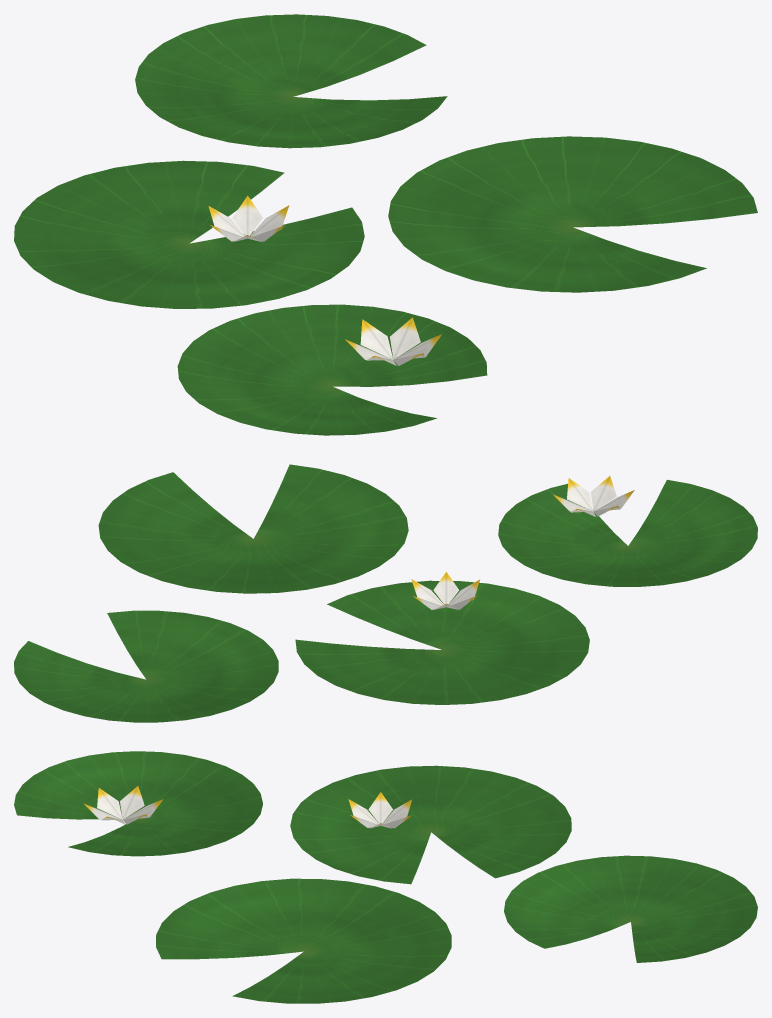
The model's file is water_lily_v1.fbx.
3 renders of one model, top to bottom at view 1: azimuth 30°, elevation 25°; view 2: azimuth 150°, elevation 25°; view 3: azimuth 270°, elevation 25°, orthographic. The views are drawn at different scales.
Parts seen in each view (by area): view 1: water_lily_v1; view 2: water_lily_v1; view 3: water_lily_v1.
Part boxes in pixels (x1,y1,x2,y2): water_lily_v1: (14,14,757,435); water_lily_v1: (14,464,757,722); water_lily_v1: (14,751,757,1003).
Size of the model in its own units: 62.39 by 4.2 by 78.56.
2 materials, 2 textured.
